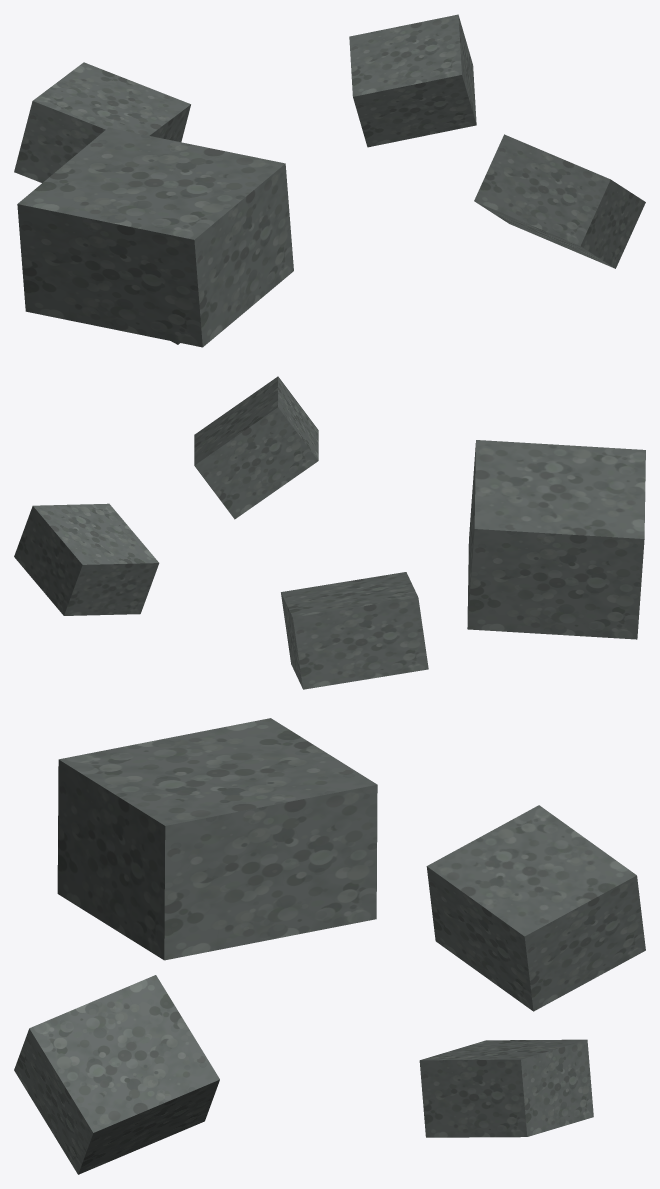
File: en-005_beach_stone_cluster__small.obj
The picture shows the model from 3 angles, top to bottom: view 1: azimuth 30°, elevation 25°; view 2: azimuth 150°, elevation 25°; view 3: azimuth 270°, elevation 25°; orthographic projection. The views are drawn at different scales.
Visible parts, largest first — view 1: en-005_beach_stone_cluster__small; view 2: en-005_beach_stone_cluster__small; view 3: en-005_beach_stone_cluster__small.
Boxes of the visible parts, left/top/right/bottom form: en-005_beach_stone_cluster__small: left=14, top=14, right=645, bottom=347; en-005_beach_stone_cluster__small: left=14, top=376, right=645, bottom=689; en-005_beach_stone_cluster__small: left=14, top=718, right=645, bottom=1174.
Bounding box in the file's own units: 1.17 × 0.2991 × 0.9587.
Materials: 1 (1 with a texture image).
